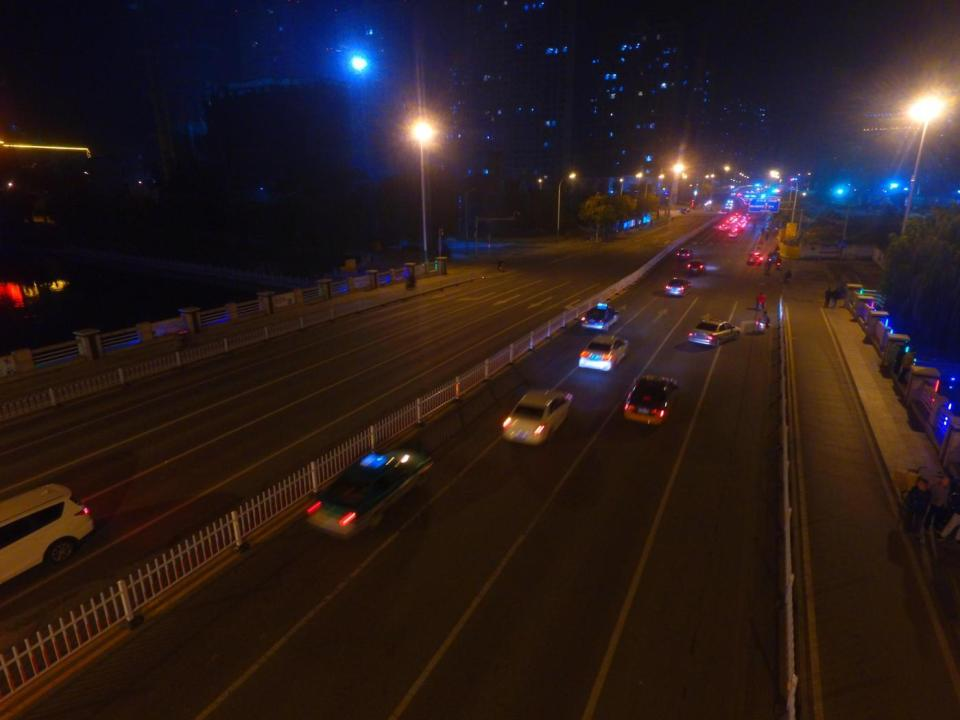car: (304, 443, 438, 536), (0, 478, 94, 585), (494, 387, 576, 444), (624, 372, 680, 424), (578, 334, 630, 371), (686, 317, 742, 345), (581, 302, 620, 331), (664, 276, 692, 296), (684, 256, 707, 274), (746, 250, 764, 264), (676, 247, 694, 260), (728, 229, 738, 237), (718, 223, 728, 230), (716, 209, 727, 215)
